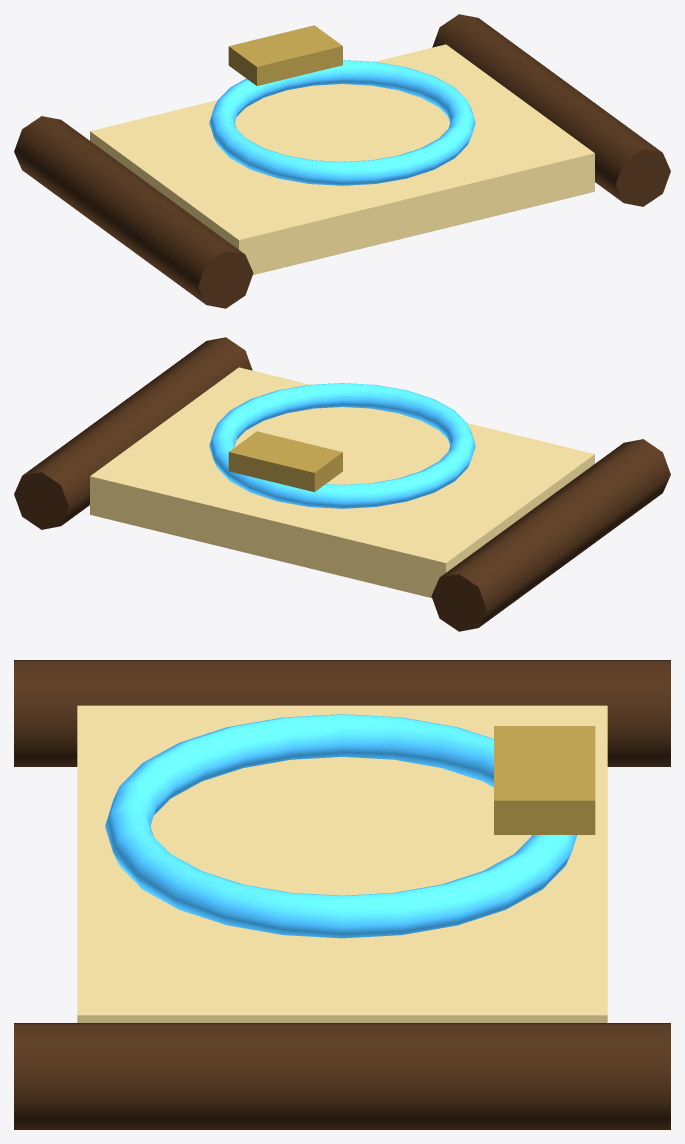
File: scroll_of_town_portal.glb
3 views of the same model, one above another, from view 1: azimuth 30°, elevation 25°; view 2: azimuth 150°, elevation 25°; view 3: azimuth 270°, elevation 25° (orthographic). The views are drawn at different scales.
Visible parts, largest first — view 1: portal-scroll-parchment-sheet, portal-scroll-left-rod, portal-scroll-town-rune, portal-scroll-right-rod, portal-scroll-gold-seal; view 2: portal-scroll-parchment-sheet, portal-scroll-left-rod, portal-scroll-town-rune, portal-scroll-right-rod, portal-scroll-gold-seal; view 3: portal-scroll-parchment-sheet, portal-scroll-right-rod, portal-scroll-town-rune, portal-scroll-left-rod, portal-scroll-gold-seal.
Boxes of the visible parts, x1,y1,x2,y2 form: portal-scroll-parchment-sheet: (90,44,594,274); portal-scroll-left-rod: (14,116,253,308); portal-scroll-town-rune: (209,60,475,185); portal-scroll-right-rod: (432,14,670,206); portal-scroll-gold-seal: (228,25,342,85); portal-scroll-parchment-sheet: (90,367,594,597); portal-scroll-left-rod: (431,439,670,631); portal-scroll-town-rune: (209,383,475,508); portal-scroll-right-rod: (14,337,252,529); portal-scroll-gold-seal: (228,431,342,491); portal-scroll-parchment-sheet: (77,705,607,1022); portal-scroll-right-rod: (14,1023,670,1129); portal-scroll-town-rune: (105,714,576,938); portal-scroll-left-rod: (14,660,670,766); portal-scroll-gold-seal: (494,726,595,834).
Bounding box in the file's own units: 0.77 × 0.16 × 0.52.
